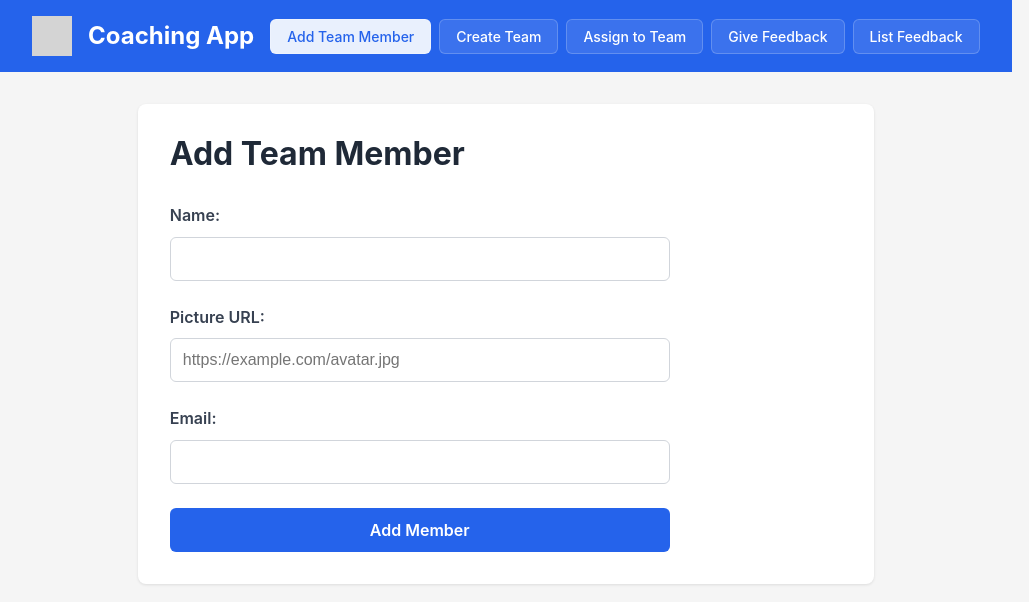
App › should navigate back to Add Team Member page
Click the button "Create Team".
click(499, 36)  # box top-left (439, 18), bottom-right (558, 54)
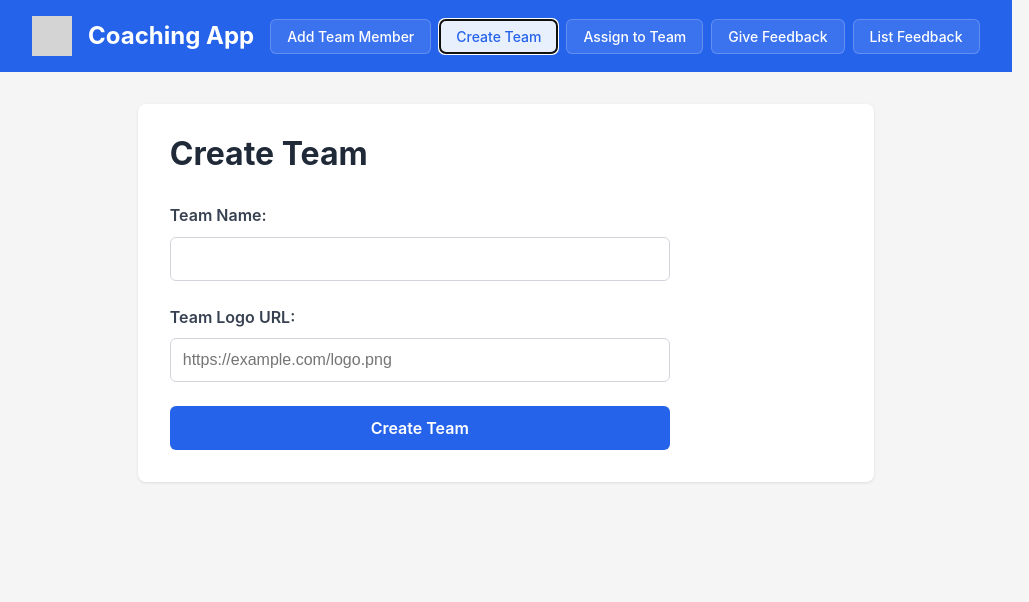
Now the heading "Create Team" is shown, box top-left (170, 134), bottom-right (368, 173)
Click the button "Add Team Member".
click(351, 36)  # box top-left (270, 18), bottom-right (431, 54)
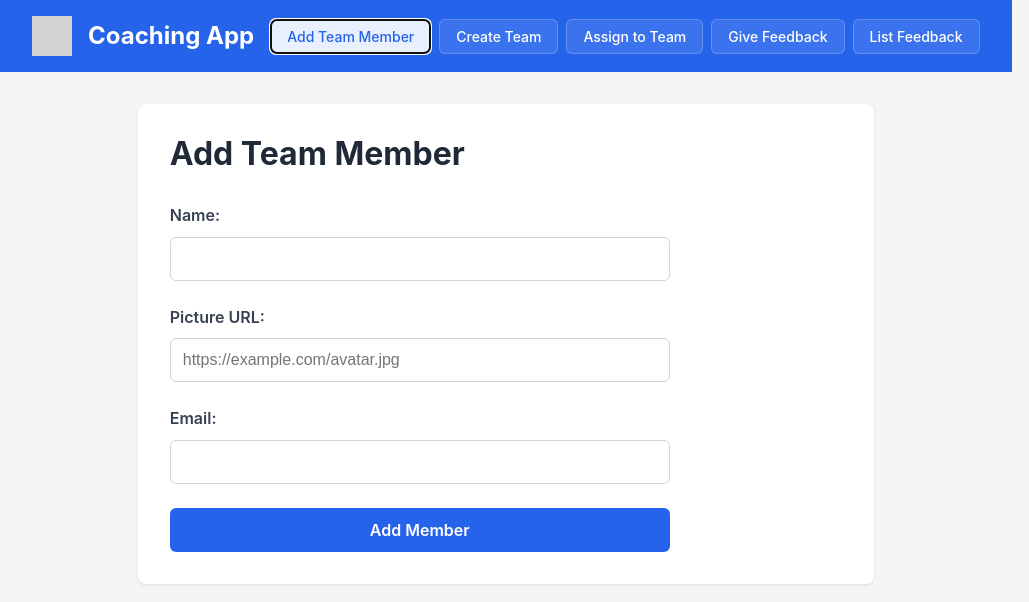
Now the heading "Add Team Member" is shown, box top-left (170, 134), bottom-right (465, 173)
